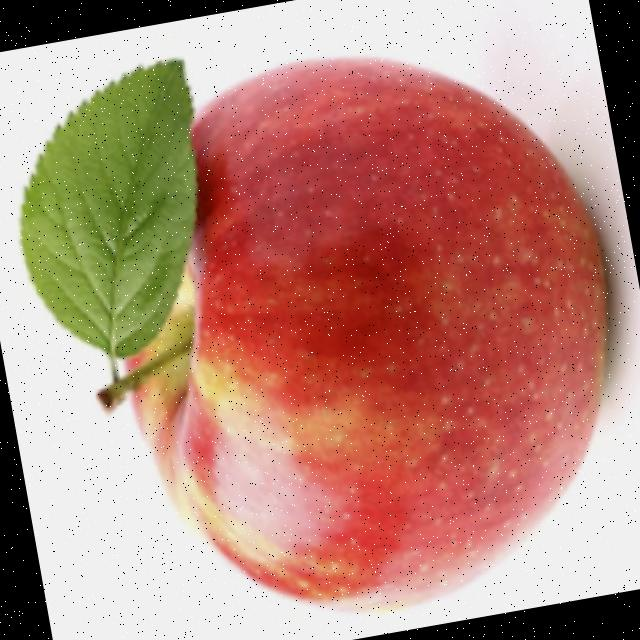Ripe: (65, 6, 640, 640)
